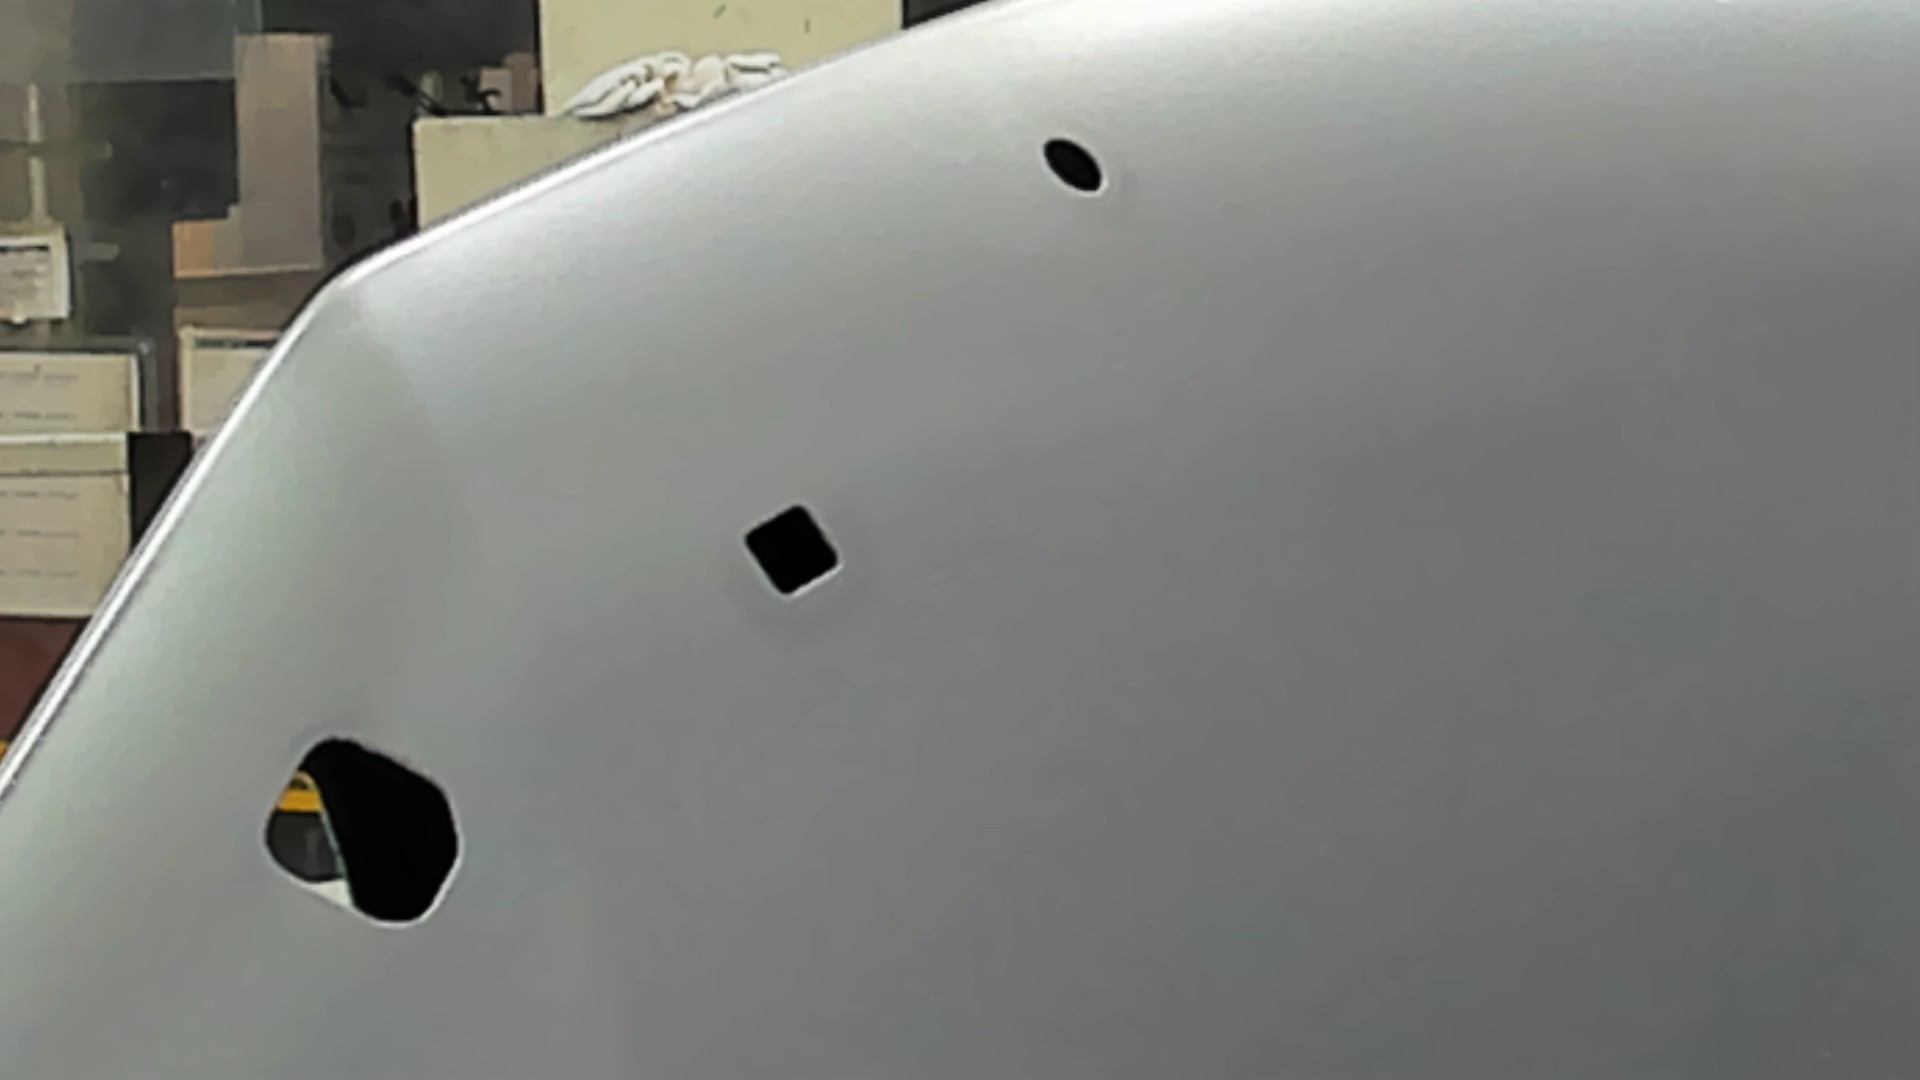chico: (1034, 131, 1114, 203)
grande: (252, 733, 465, 934)
mediano: (735, 496, 845, 607)
